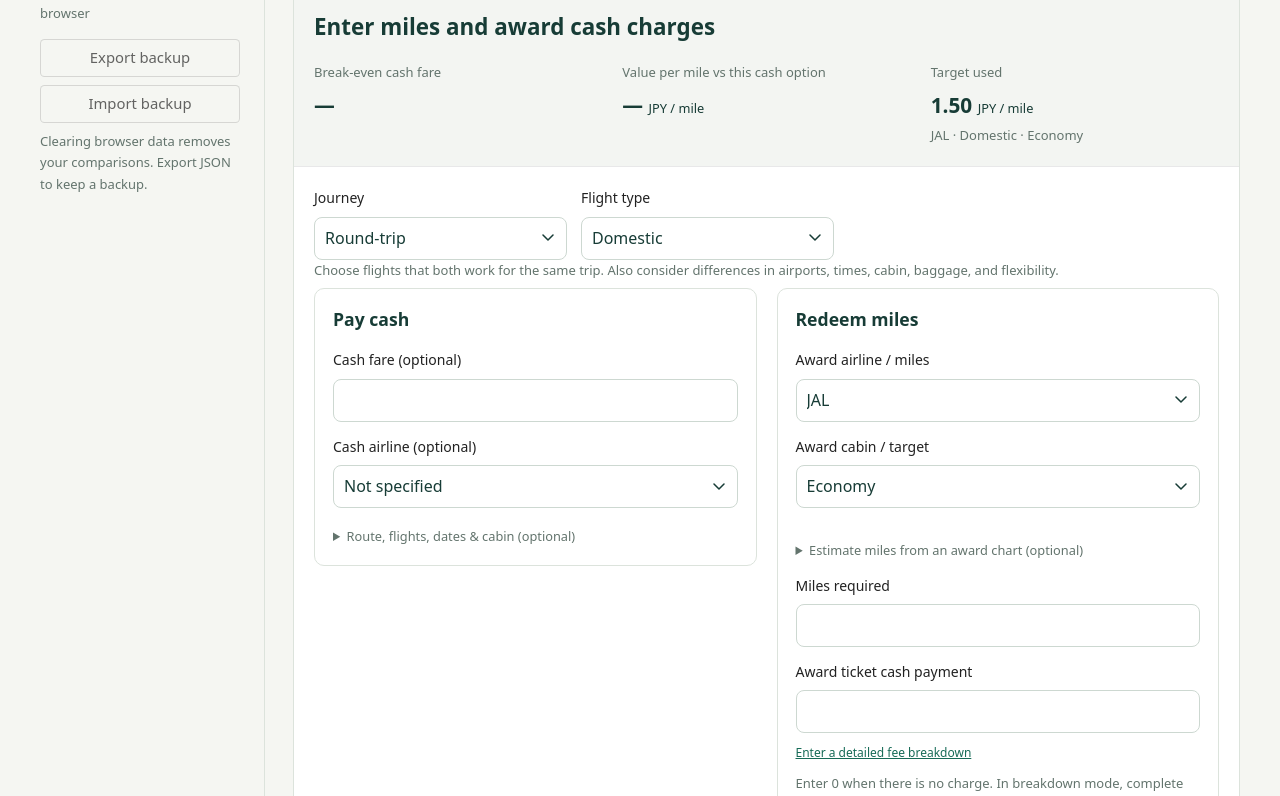
comparison workflow › clears results for invalid values instead of showing stale recommendations
(page scrolled)
Type "50000" into the number field labelled "Cash fare (optional)". click: (535, 400)
box: 333,379 -> 738,422
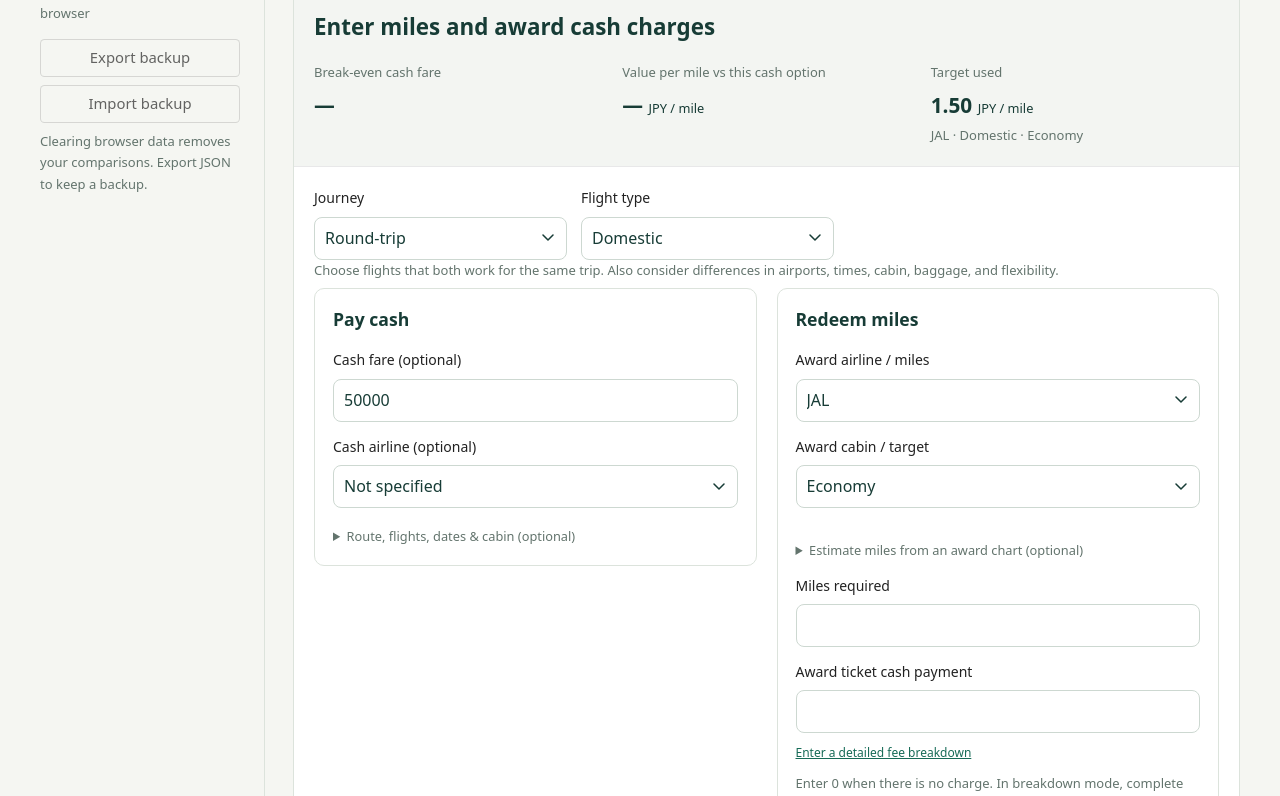
Type "20000" into the number field labelled "Miles required". click: (998, 626)
box: 796,604 -> 1200,647
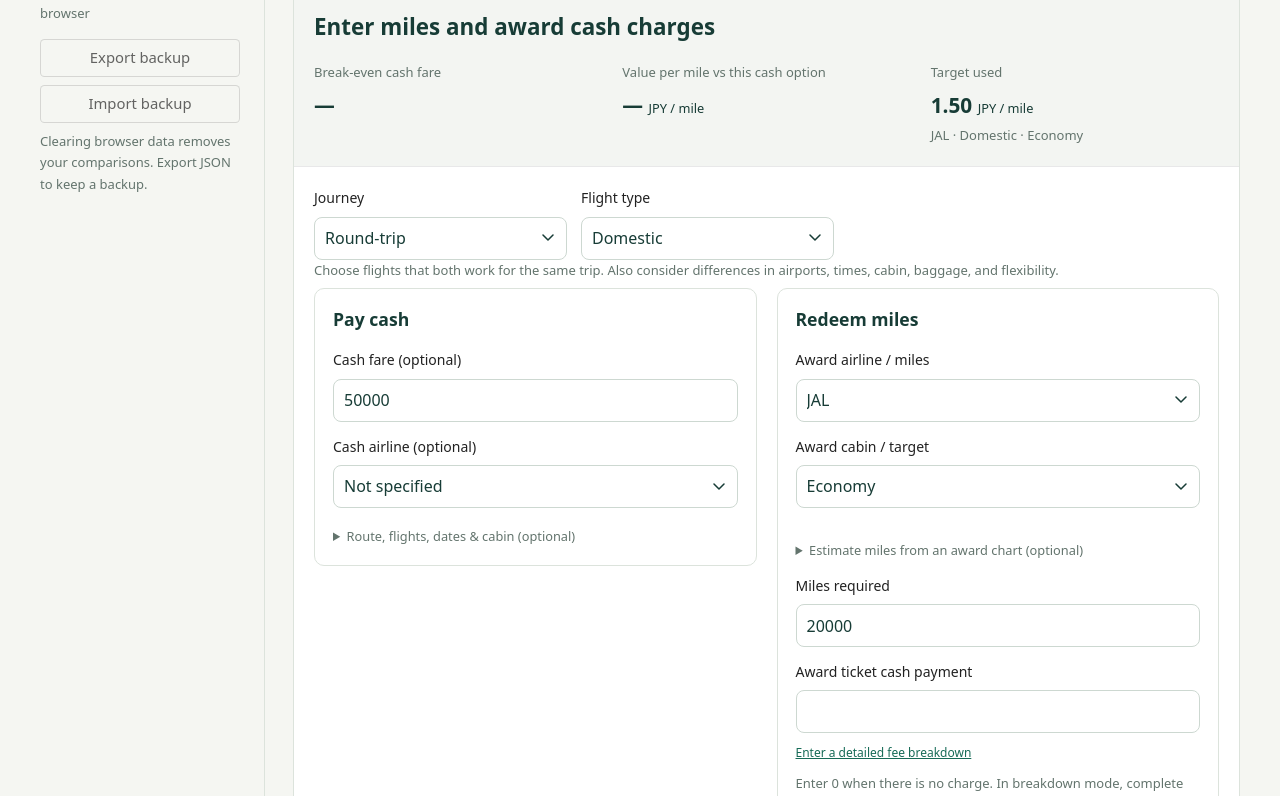
Type "5000" into the number field labelled "Award ticket cash payment". click: (998, 712)
box: 796,690 -> 1200,734
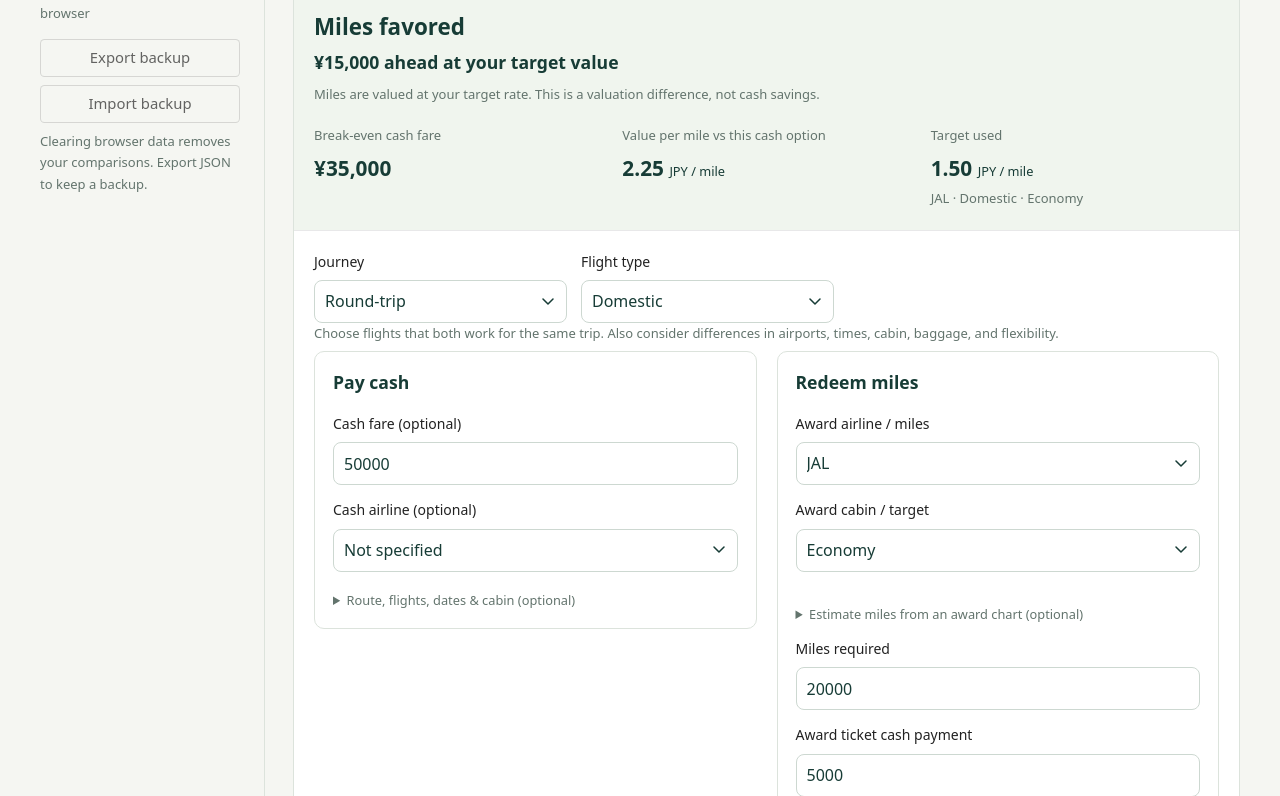
Replace the text in the number field labelled "Miles required" with "-1". click: (998, 689)
box: 796,667 -> 1200,710
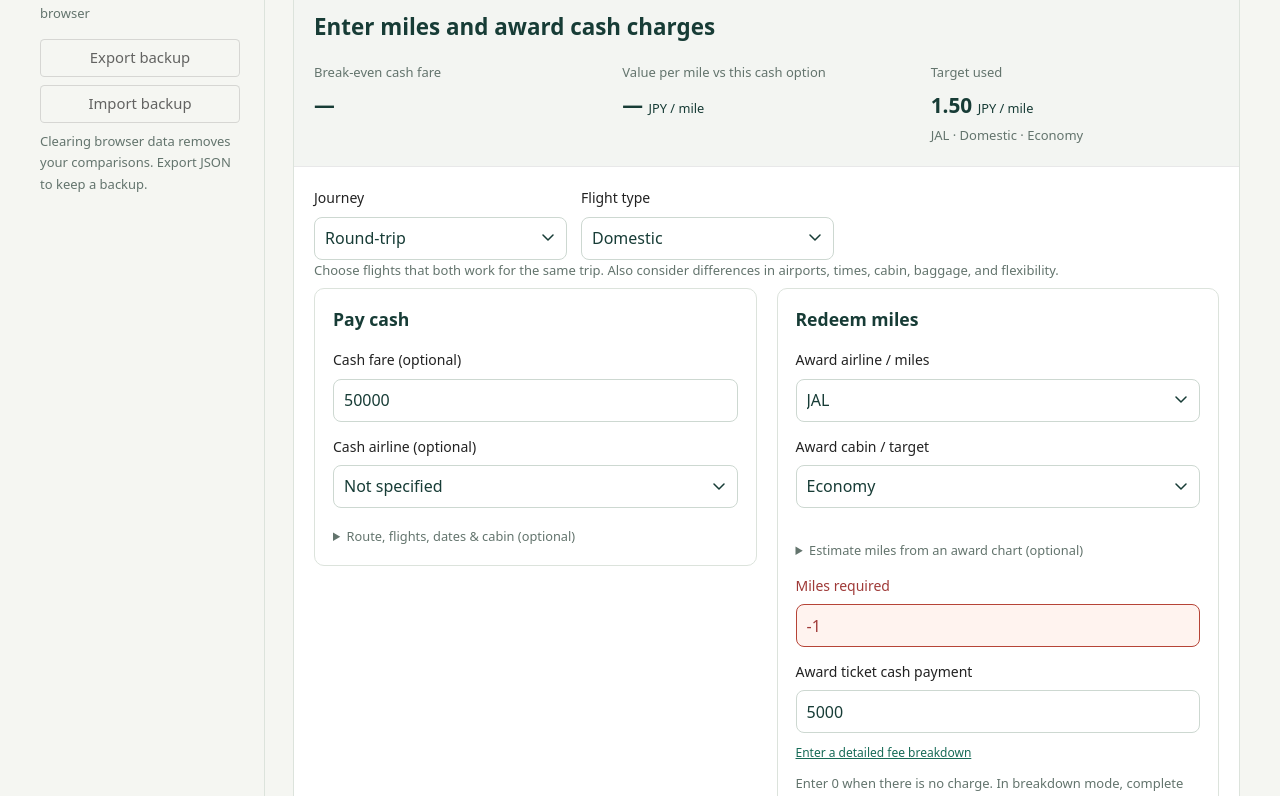
Now the text "2.25" is gone
Now the heading "Miles favored" is gone
